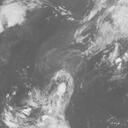cyclone: (40, 36, 102, 108)
